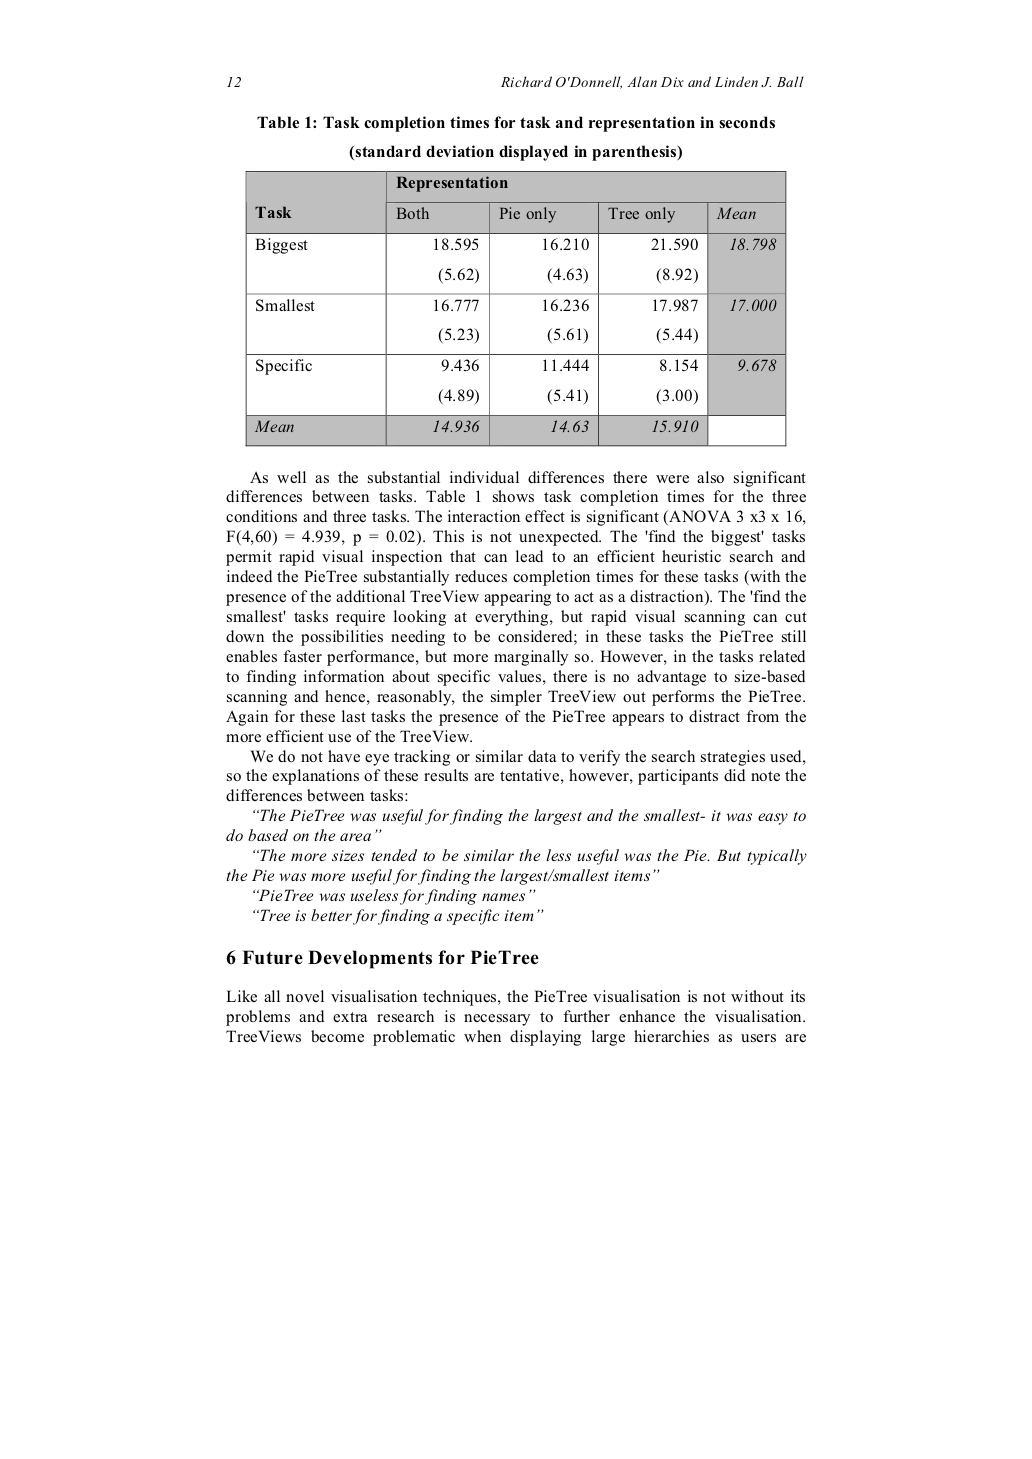Table: (245, 170, 786, 447)
